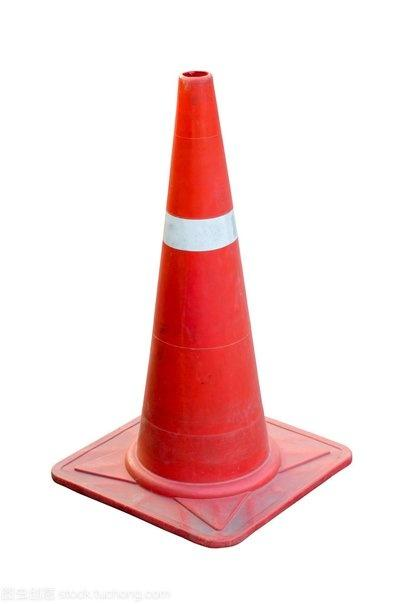cone_barrel: (115, 75, 280, 490)
